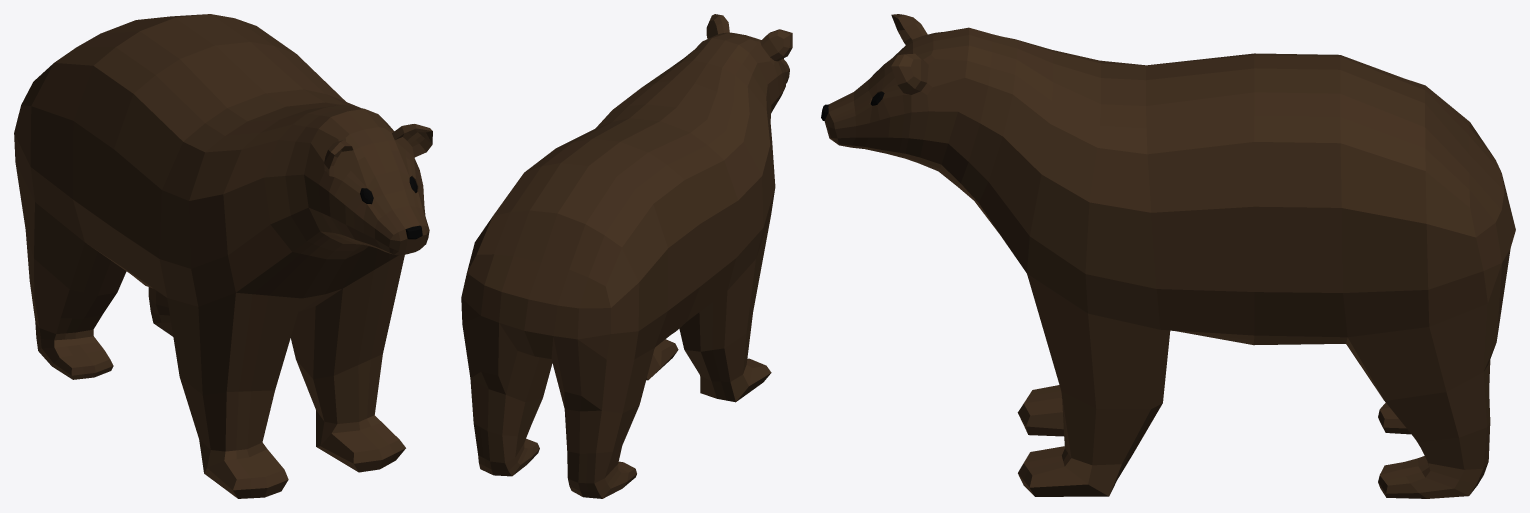
File: Bear.fbx
3 renders of one model, left to right at view 1: azimuth 30°, elevation 25°; view 2: azimuth 150°, elevation 25°; view 3: azimuth 270°, elevation 25°, orthographic. The views are drawn at different scales.
Parts seen in each view (by area): view 1: Bear; view 2: Bear; view 3: Bear.
Boxes of the visible parts, x1,y1,x2,y2 form: Bear: (14, 14, 432, 498); Bear: (461, 14, 792, 498); Bear: (821, 14, 1515, 498).
Bounding box in the file's own units: 230 × 414 × 619.
